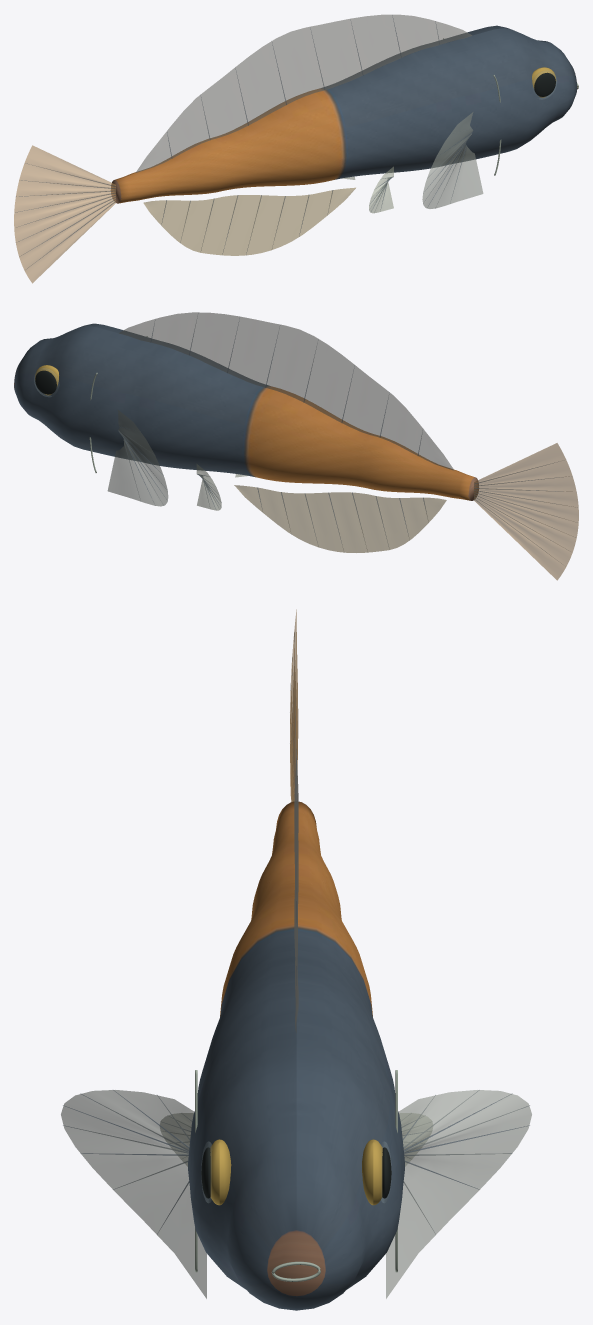
File: bicolor-mobile.glb
3 views of the same model, one above another, from view 1: azimuth 30°, elevation 25°; view 2: azimuth 150°, elevation 25°; view 3: azimuth 270°, elevation 25° (orthographic). The views are drawn at different scales.
Parts seen in each view (by area): view 1: skin, dorsal, anal, tail, pectoral-left, dorsal-ray, pelvic-left, eye-pupil--1; view 2: skin, dorsal, anal, tail, pectoral-left, dorsal-ray, pelvic-left, eye-pupil--1; view 3: skin, pectoral-left, eye-iris--1, dorsal-ray, pelvic-left, tail, dorsal, operculum.
Part boxes in pixels (<box>): skin: <box>111,25,577,203</box>; dorsal: <box>136,14,471,172</box>; anal: <box>143,187,355,255</box>; tail: <box>14,145,115,283</box>; pectoral-left: <box>422,112,483,208</box>; dorsal-ray: <box>15,15,472,268</box>; pelvic-left: <box>342,166,393,213</box>; eye-pupil--1: <box>534,72,555,96</box>; skin: <box>14,323,478,500</box>; dorsal: <box>119,312,454,470</box>; anal: <box>234,485,446,552</box>; tail: <box>474,443,578,580</box>; pectoral-left: <box>107,410,168,506</box>; dorsal-ray: <box>118,322,577,555</box>; pelvic-left: <box>196,464,247,510</box>; eye-pupil--1: <box>35,370,56,394</box>; skin: <box>188,801,404,1310</box>; pectoral-left: <box>61,1090,531,1298</box>; eye-iris--1: <box>210,1139,382,1205</box>; dorsal-ray: <box>63,632,529,1230</box>; pelvic-left: <box>160,1113,432,1166</box>; tail: <box>290,609,298,801</box>; dorsal: <box>294,749,298,1032</box>; operculum: <box>195,1070,397,1281</box>.
Size of the model in its own units: 0.5852 by 0.2142 by 0.2136.
Materials: 11 (1 with a texture image).
